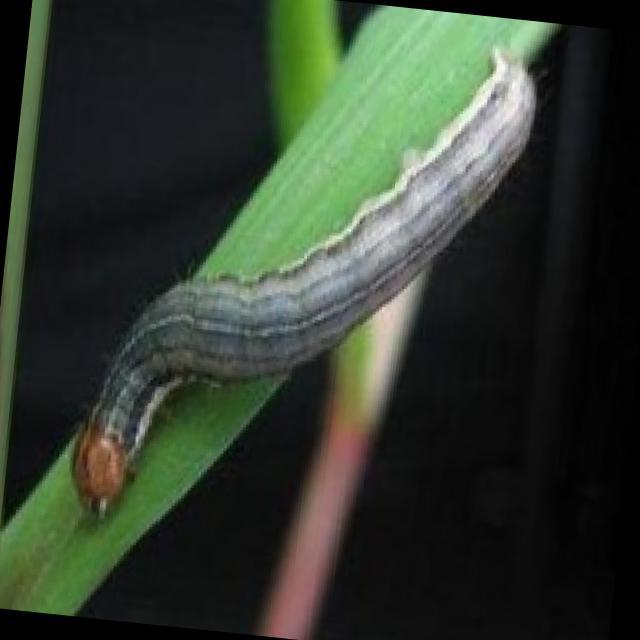Plaga: (50, 1, 549, 566)
